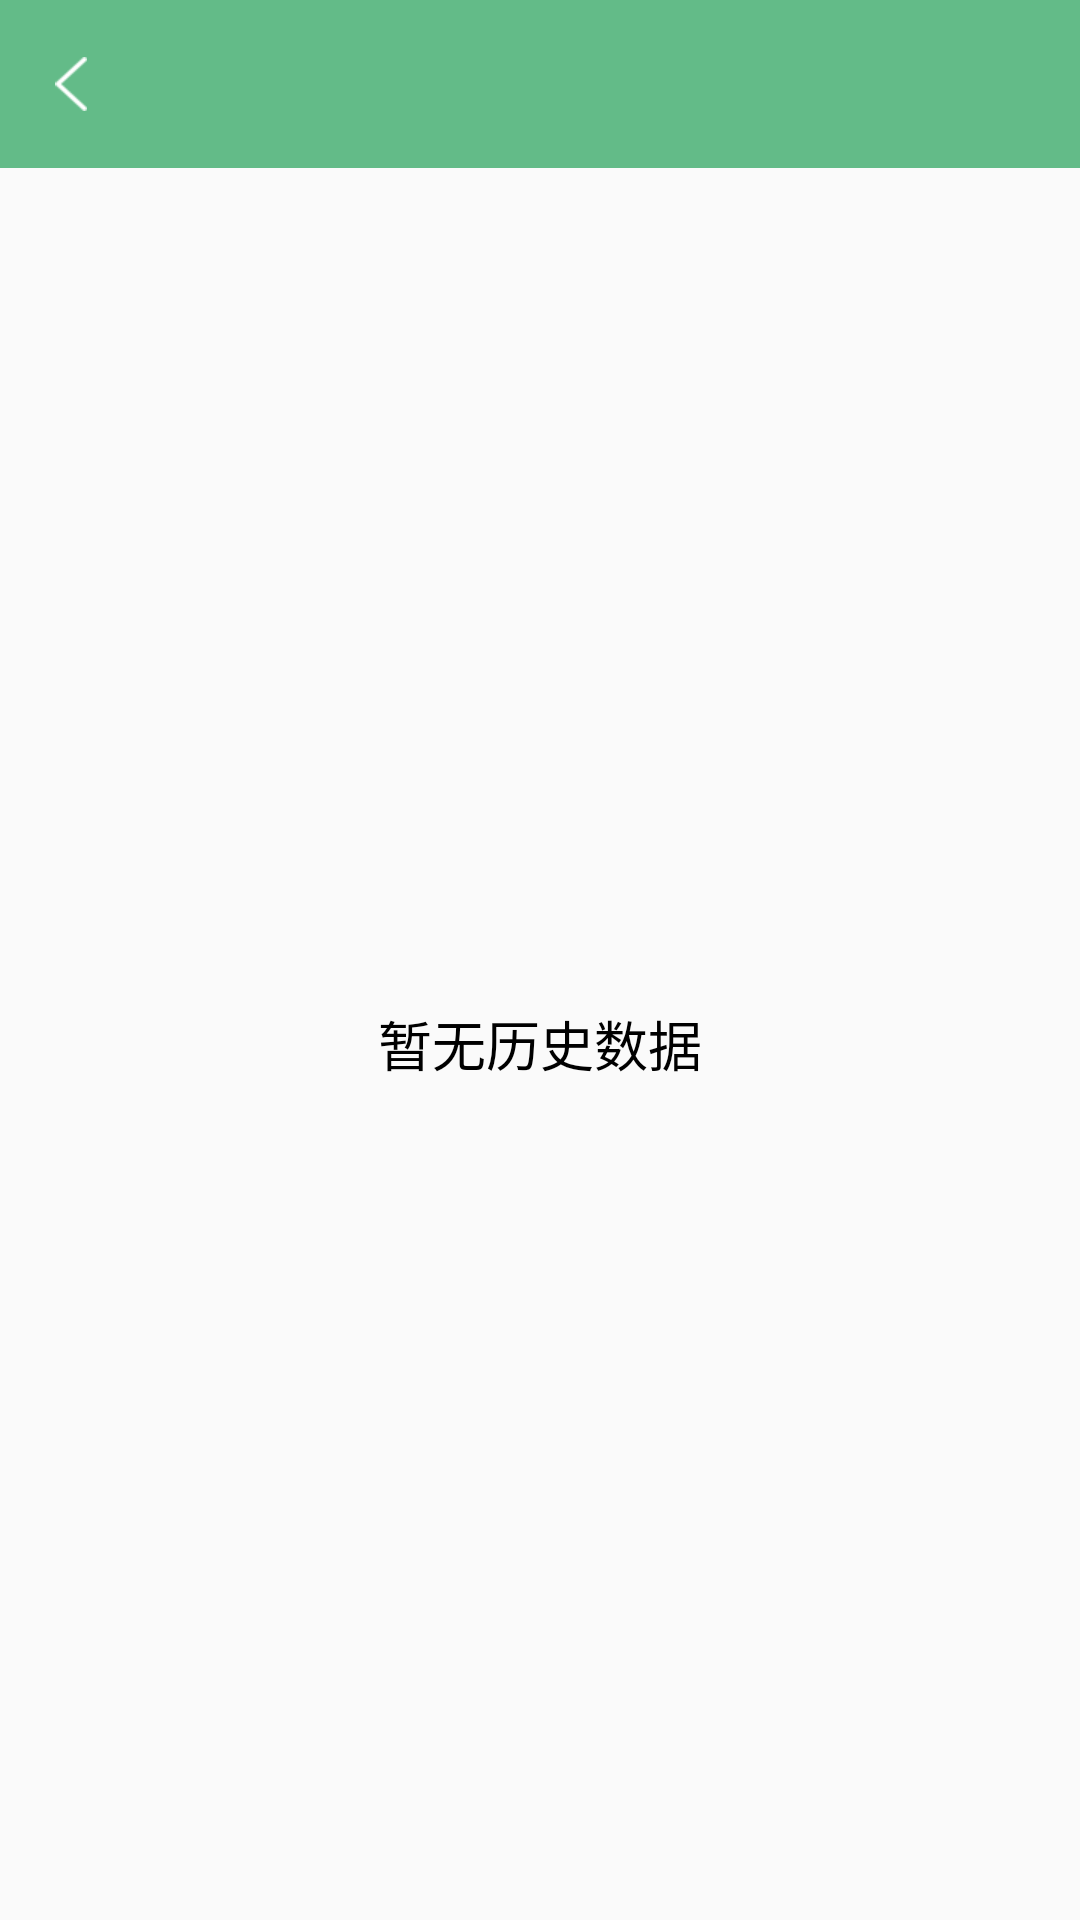

Icon click points for this 1080w x 1920h phone screenshot, format (x=x, y=y):
back: (x=71, y=84)
